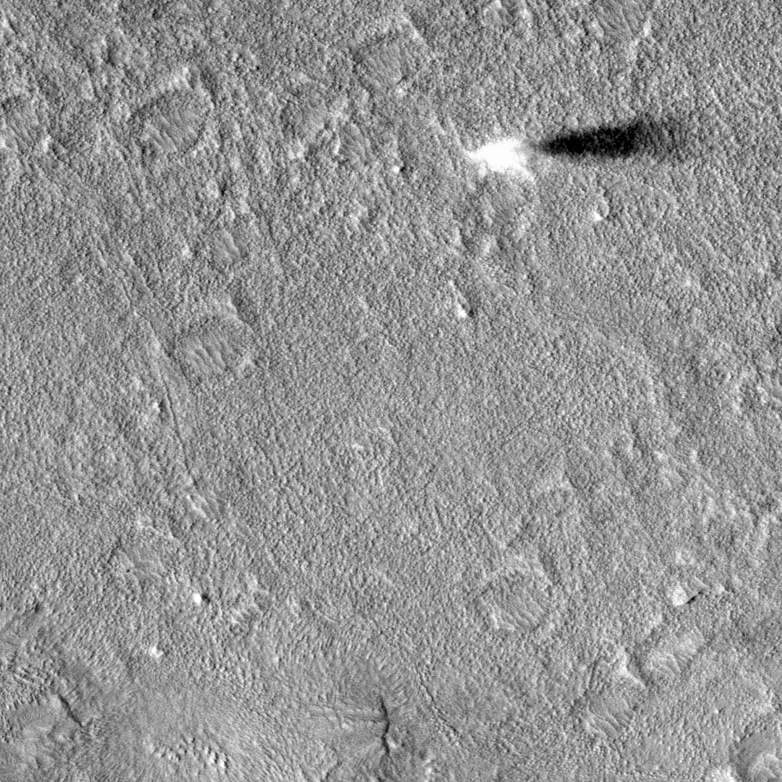dust_devil: (457, 106, 691, 186)
